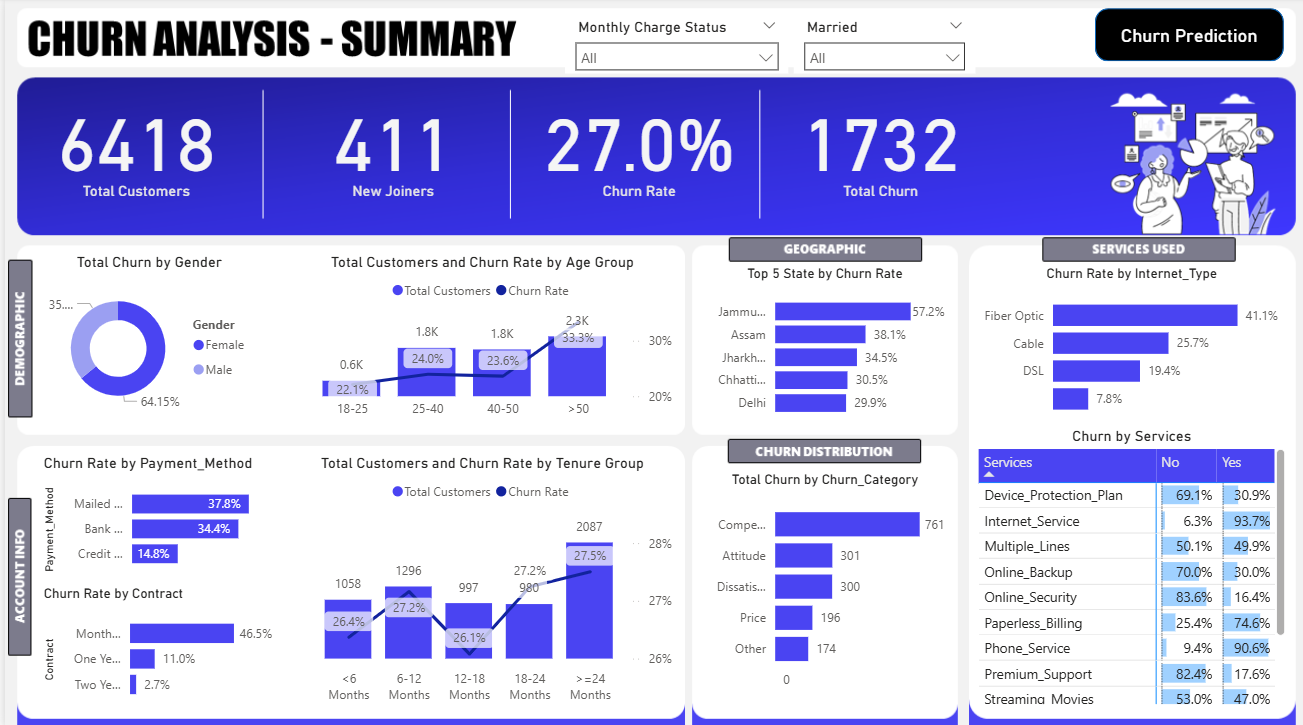

The dashboard page shown, as its layout file describes it:
{"tool":"powerbi","page":{"name":"Summary ","canvas":[1280,720],"ordinal":1},"visuals":[{"type":"image","box":[73.6,319,78.5,52.8],"z":0},{"type":"donutChart","fields":{"Category":["churndb customer_data.Gender"],"Y":["Measures_Data.Total Churn"]},"box":[33.1,251.5,217.2,170.6],"z":1000},{"type":"image","box":[252.8,451.5,87.1,58.9],"z":2000},{"type":"card","fields":{"Values":["Measures_Data.Total Customers"]},"box":[32.9,86.4,192.1,115.3],"z":3000},{"type":"card","fields":{"Values":["Measures_Data.New Joiners"]},"box":[296.4,86.4,168.8,115.3],"z":4000},{"type":"card","fields":{"Values":["Measures_Data.Churn Rate"]},"box":[522.8,86.4,200.3,115.3],"z":5000},{"type":"card","fields":{"Values":["Measures_Data.Total Churn"]},"box":[758.8,86.4,203.1,115.3],"z":6000},{"type":"clusteredBarChart","title":"Top 5 State by Churn Rate","fields":{"Category":["churndb customer_data.State"],"Y":["Measures_Data.Churn Rate"]},"box":[682.2,263.8,245.4,158.3],"z":7000},{"type":"lineStackedColumnComboChart","fields":{"Category":["Mapping_AgeGroup.Age Group "],"Y":["Measures_Data.Total Customers"],"Y2":["Measures_Data.Churn Rate"]},"box":[277.3,251.5,382.8,170.6],"z":8000},{"type":"clusteredBarChart","fields":{"Category":["churndb customer_data.Payment_Method"],"Y":["Measures_Data.Churn Rate"]},"box":[33.1,449.1,244.2,122.7],"z":9000},{"type":"clusteredBarChart","fields":{"Y":["Measures_Data.Churn Rate"],"Category":["churndb customer_data.Contract"]},"box":[33.1,577.9,234.4,122.7],"z":10000},{"type":"lineStackedColumnComboChart","fields":{"Y":["Measures_Data.Total Customers"],"Y2":["Measures_Data.Churn Rate"],"Category":["Mapping_TenureGroup.Tenure Group "]},"box":[277.3,449.1,382.8,251.5],"z":11000},{"type":"clusteredBarChart","fields":{"Category":["churndb customer_data.Churn_Category"],"Y":["Measures_Data.Total Churn"]},"box":[682.2,466.3,245.4,234.4],"z":12000},{"type":"clusteredBarChart","fields":{"Category":["churndb customer_data.Internet_Type"],"Y":["Measures_Data.Churn Rate"]},"box":[950.9,263.8,310.4,158.3],"z":13000},{"type":"pivotTable","title":"Churn by Services","fields":{"Rows":["Churn_Services.Services"],"Columns":["Churn_Services.Status"],"Values":["Sum(Churn_Services.Churn Status )"]},"box":[950.9,422.1,310.4,277.3],"z":14000},{"type":"slicer","fields":{"Values":["Churn_Services.Monthly Charge Status "]},"box":[550.3,16.5,219.6,59],"z":15000},{"type":"slicer","fields":{"Values":["Churn_Services.Married"]},"box":[773.9,16.5,178.4,59],"z":16000},{"type":"shape","box":[1070.3,11,185.2,52.1],"z":16001}]}

Visuals, with their boxes in screenshot pixels (x1, y1, x2, y2), scaled from the page's 1280x720 canvas onto the 1303x725 screenshot:
image: 75/321/155/374
donutChart - churndb customer_data.Gender x Measures_Data.Total Churn: 34/253/255/425
image: 257/455/346/514
card - Measures_Data.Total Customers: 33/87/229/203
card - Measures_Data.New Joiners: 302/87/474/203
card - Measures_Data.Churn Rate: 532/87/736/203
card - Measures_Data.Total Churn: 772/87/979/203
"Top 5 State by Churn Rate" clusteredBarChart: 694/266/944/425
lineStackedColumnComboChart - Mapping_AgeGroup.Age Group  x Measures_Data.Total Customers: 282/253/672/425
clusteredBarChart - churndb customer_data.Payment_Method x Measures_Data.Churn Rate: 34/452/282/576
clusteredBarChart - Measures_Data.Churn Rate x churndb customer_data.Contract: 34/582/272/705
lineStackedColumnComboChart - Measures_Data.Total Customers x Measures_Data.Churn Rate: 282/452/672/705
clusteredBarChart - churndb customer_data.Churn_Category x Measures_Data.Total Churn: 694/470/944/706
clusteredBarChart - churndb customer_data.Internet_Type x Measures_Data.Churn Rate: 968/266/1284/425
"Churn by Services" pivotTable: 968/425/1284/704
slicer - Churn_Services.Monthly Charge Status : 560/17/784/76
slicer - Churn_Services.Married: 788/17/969/76
shape: 1090/11/1278/64
